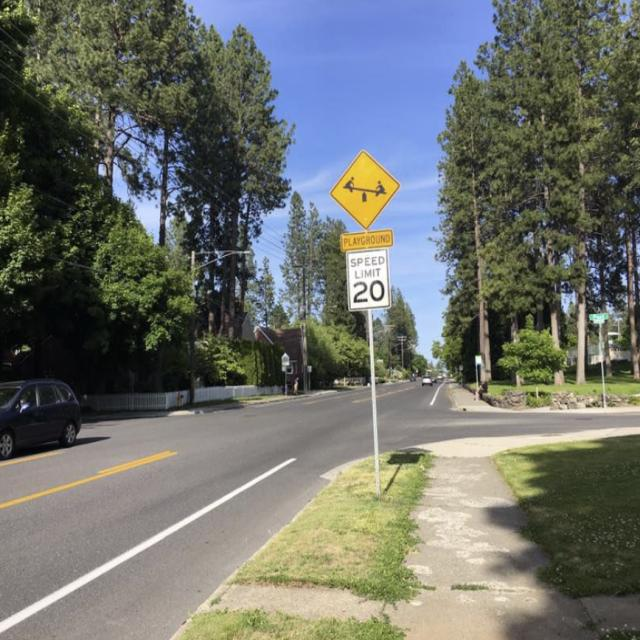speedLimit20: (347, 252, 390, 310)
